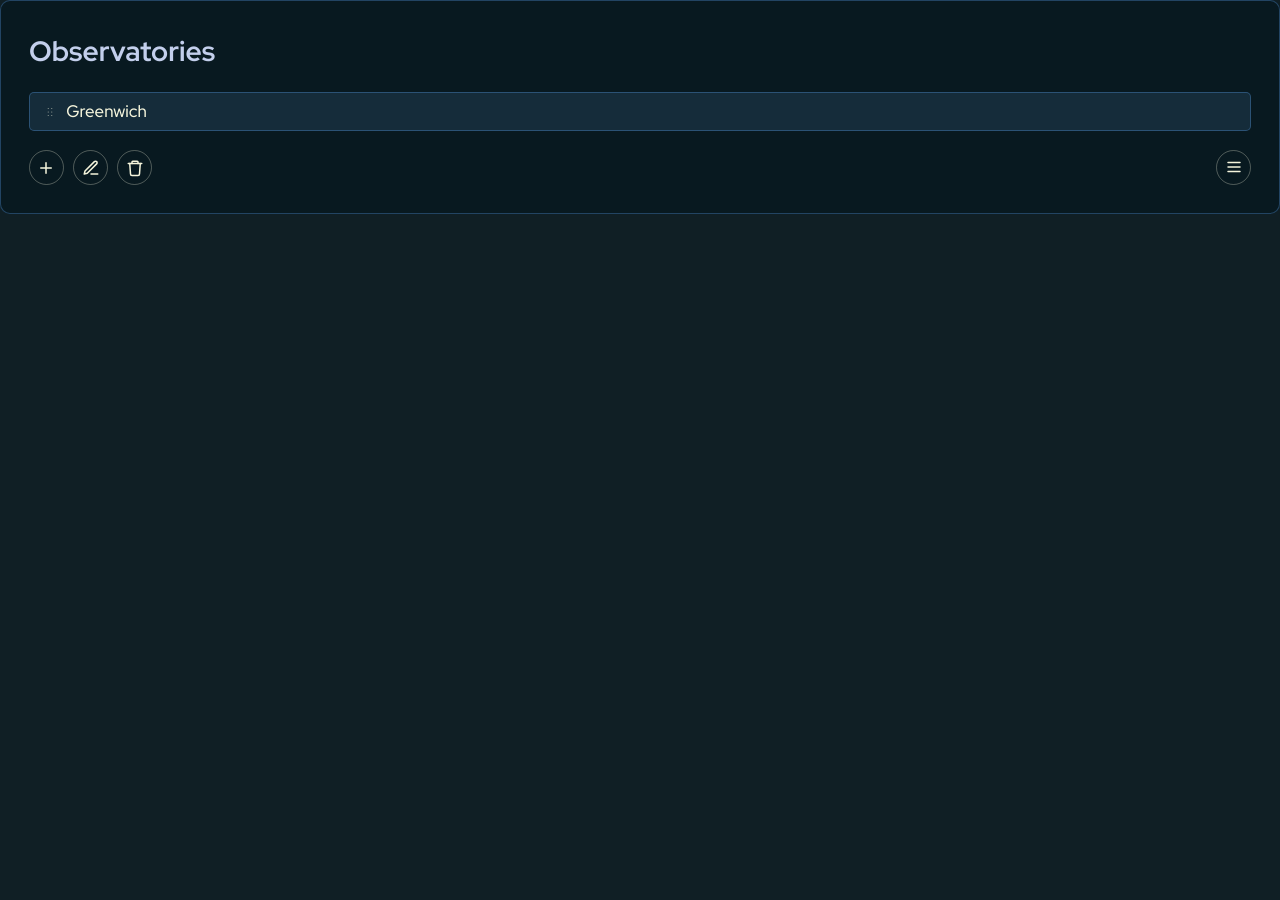
Test: adding › adds nothing when the editor is cancelled
Click the button named "add observatory" at (46, 167), box x1=29 y1=150 x2=64 y2=185
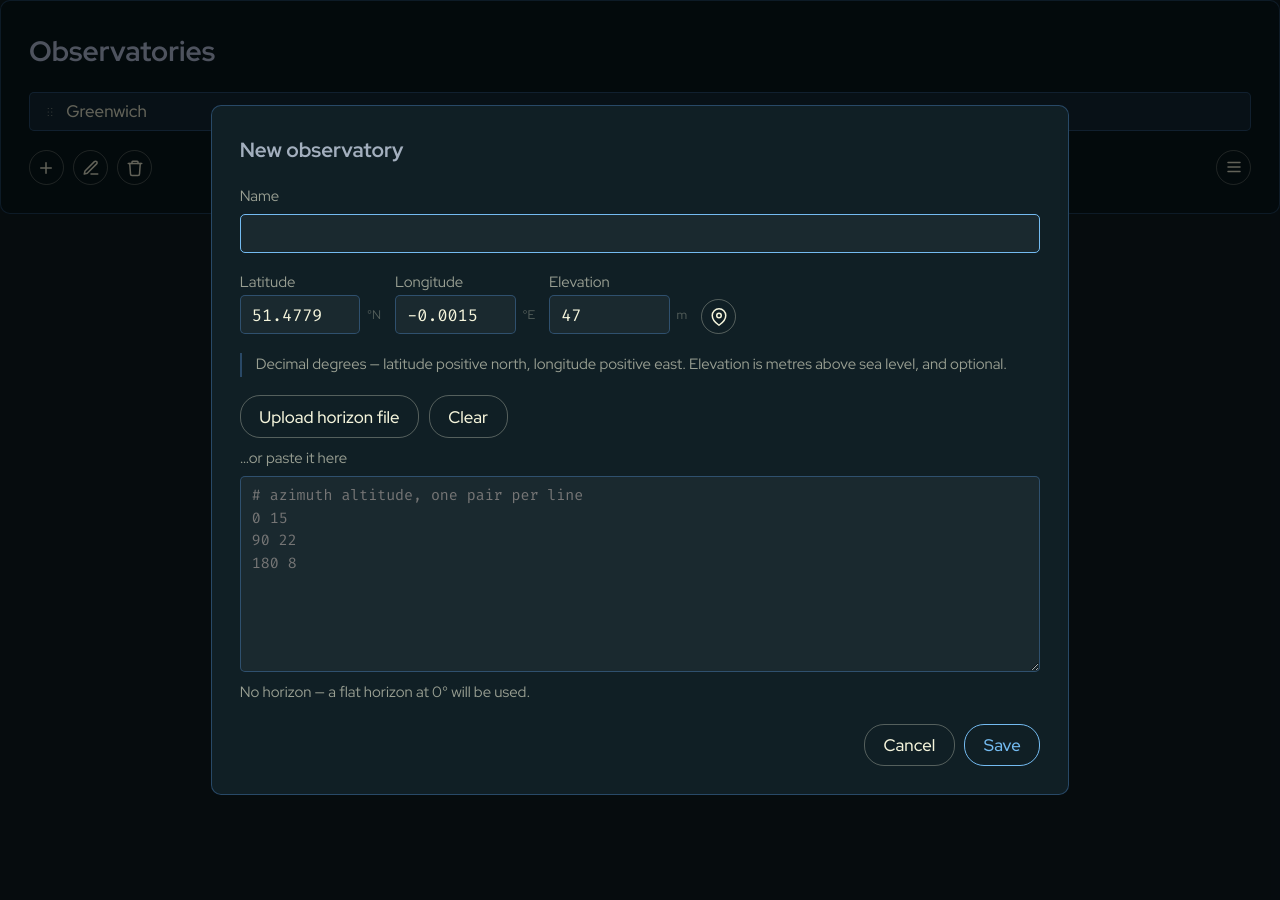
Type "Dark site" into the field labelled "Name" at (640, 233), box x1=240 y1=214 x2=1040 y2=253
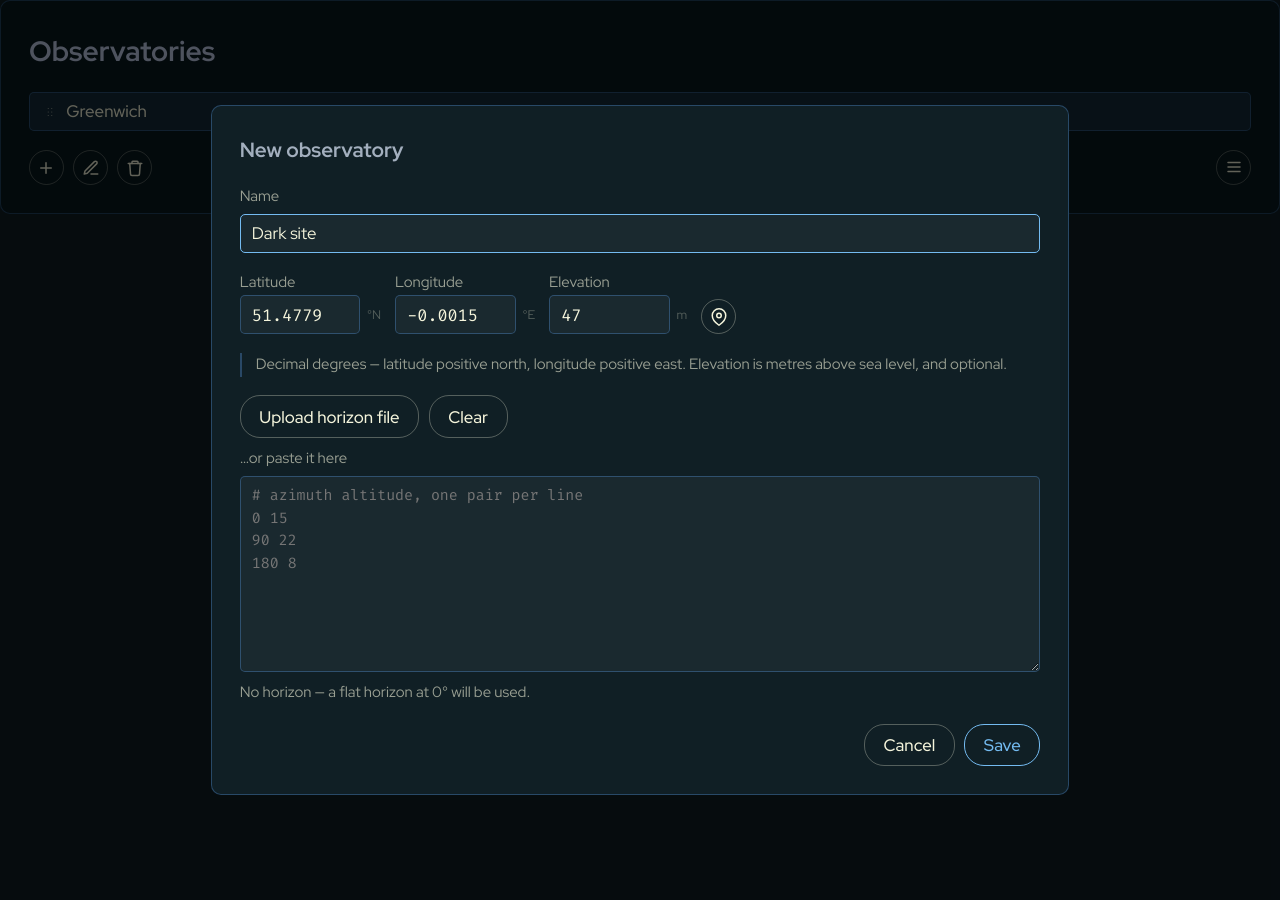
Click the button "Cancel" at (909, 745), box x1=864 y1=724 x2=955 y2=766
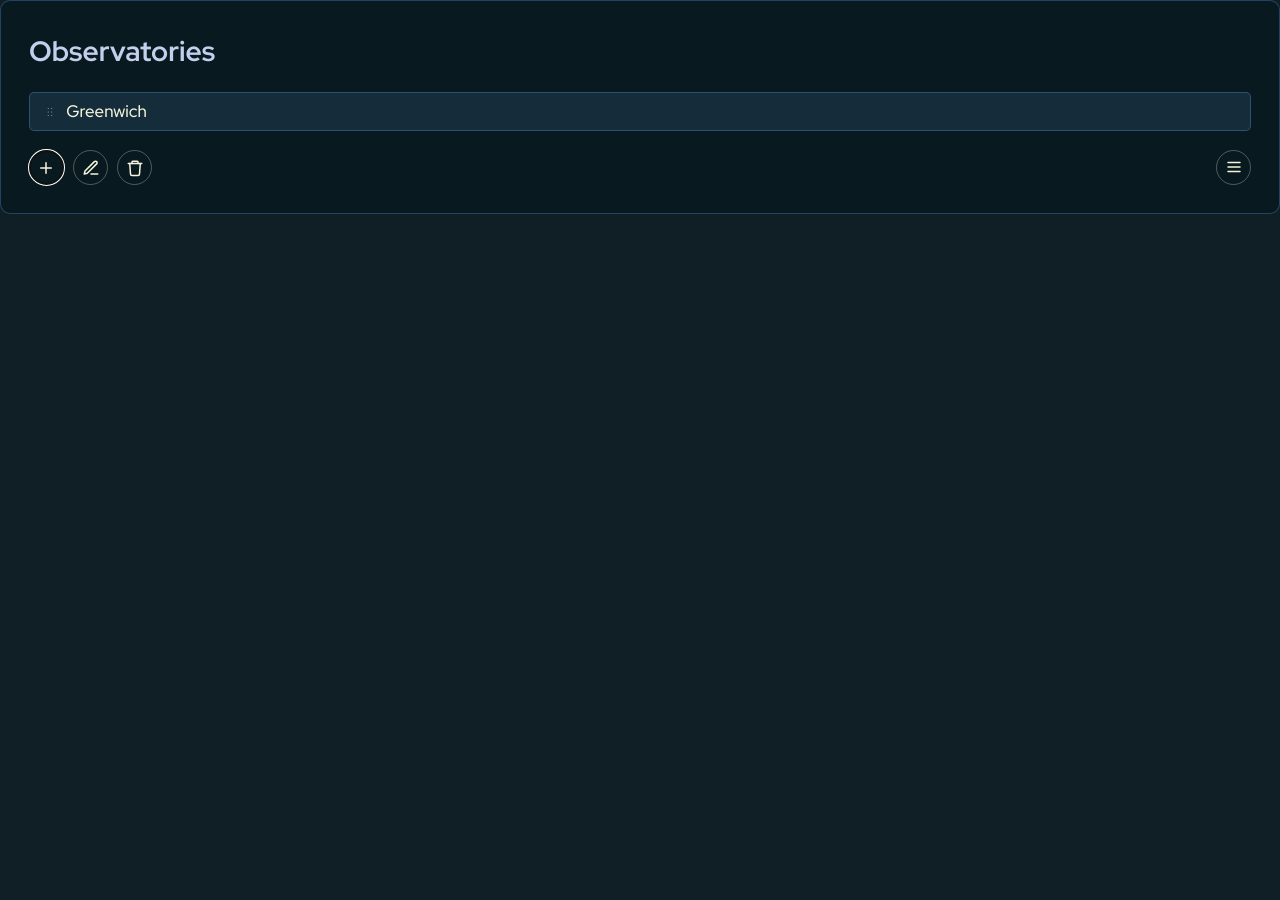
Now the dialog is gone
